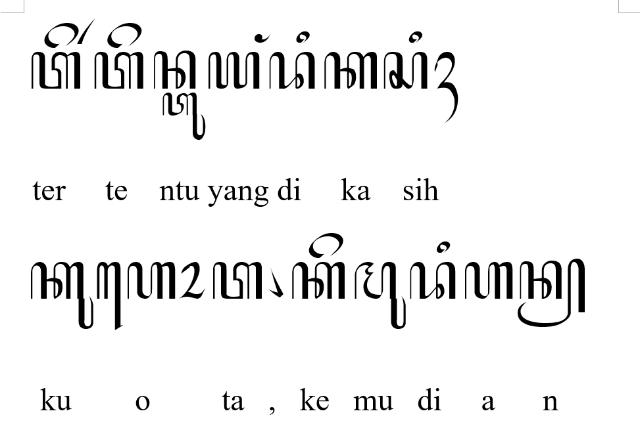-n: (517, 258, 585, 328)
_h1: (434, 51, 458, 123)
_r1: (77, 17, 96, 45)
d: (268, 51, 316, 90), (410, 262, 456, 300)
e: (44, 22, 80, 48), (106, 22, 142, 48), (308, 233, 344, 259)
e1: (97, 262, 123, 332)
h: (464, 261, 514, 300), (126, 262, 176, 300)
i: (436, 240, 452, 252), (296, 31, 310, 44), (409, 31, 423, 44)
k: (322, 51, 378, 90), (292, 262, 346, 300)
kom: (268, 266, 284, 298)
ku: (30, 261, 94, 329)
mu: (354, 261, 406, 329)
n: (154, 49, 196, 88)
ng: (255, 33, 271, 43)
o: (178, 262, 206, 300)
s: (382, 51, 428, 89)
t: (30, 52, 81, 90), (94, 52, 144, 90), (212, 262, 262, 300)
tu: (162, 92, 206, 140)
y: (208, 52, 260, 90)
